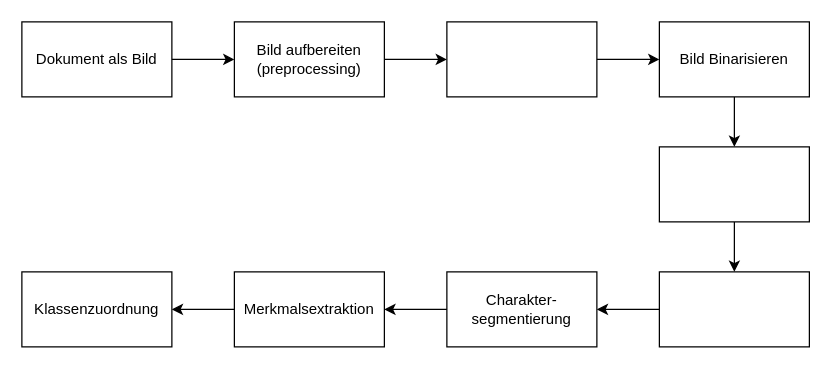
The diagram is 831 pixels wide and 369 high, and some of its shapes have lost their labels. The shapes that lost their labels are listed below. From the top down, each one's box as (x1, y1, x2, y2) in pixels, then its label:
(446, 21, 597, 97): Schwellwert bestimmen
(658, 146, 809, 222): Zeilenerkennung
(658, 271, 809, 347): Wortsegmentierung
